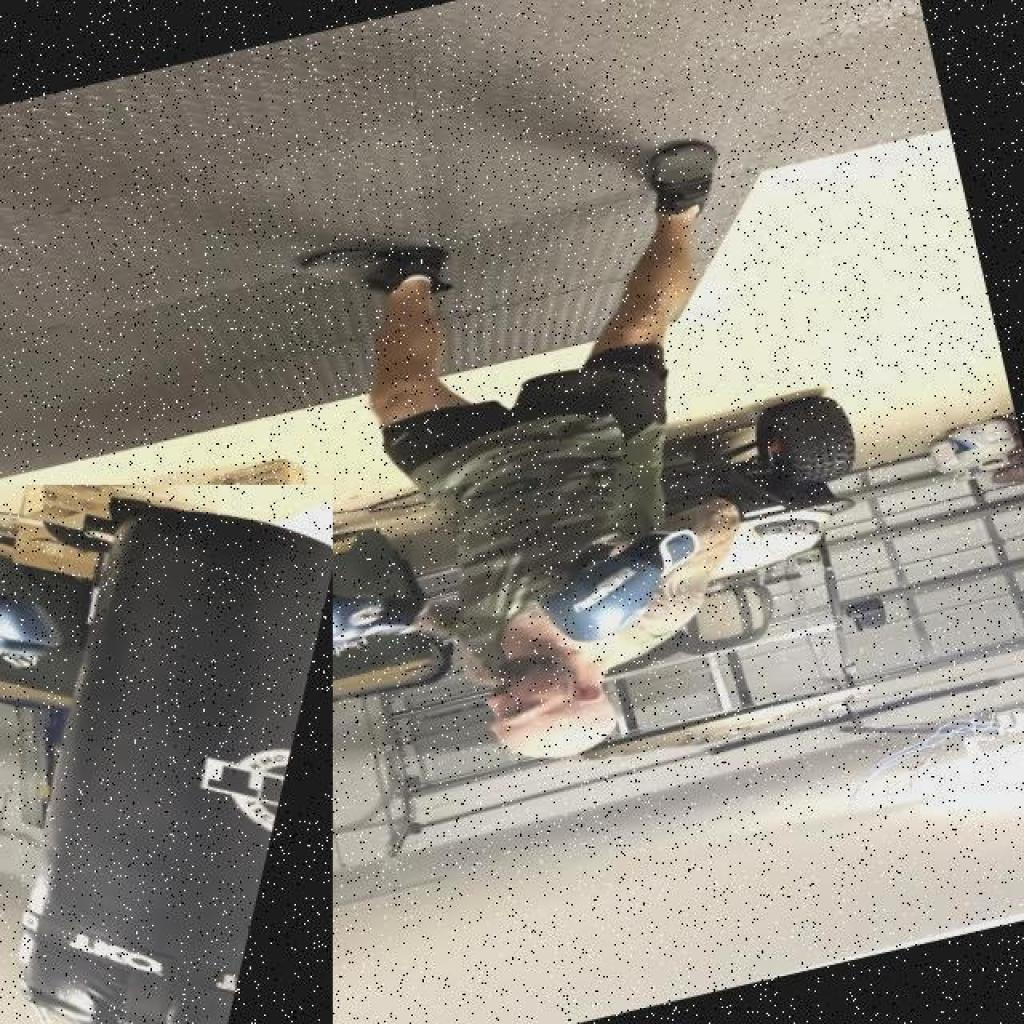bag: (0, 485, 333, 1024)
hook: (220, 477, 806, 856)
